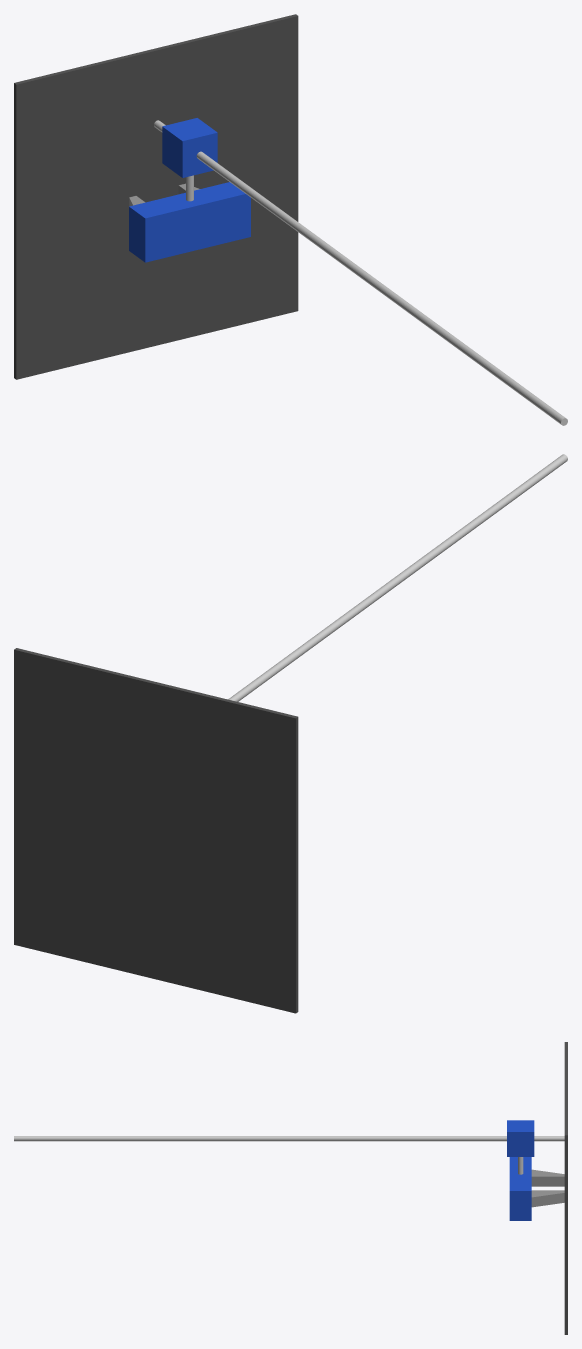
Rendered from gripper.obj.
3 renders of one model, top to bottom at view 1: azimuth 30°, elevation 25°; view 2: azimuth 150°, elevation 25°; view 3: azimuth 270°, elevation 25°, orthographic. The views are drawn at different scales.
Parts seen in each view (by area): view 1: b_gripper_base_001_, b_gripper_body_001_, b_gripper_vertical_rod_001_, b_gripper_connector_block_001_; view 2: b_gripper_base_001_, b_gripper_vertical_rod_001_; view 3: b_gripper_vertical_rod_001_, b_gripper_body_001_, b_gripper_base_001_, b_gripper_connector_block_001_, b_gripper_arm_001_, b_gripper_arm_001_001.
Boxes of the visible parts, box(x1,y1,x2,y2) form: b_gripper_base_001_: box(14, 14, 298, 379); b_gripper_body_001_: box(129, 182, 250, 262); b_gripper_vertical_rod_001_: box(154, 120, 567, 425); b_gripper_connector_block_001_: box(162, 118, 217, 177); b_gripper_base_001_: box(14, 648, 298, 1013); b_gripper_vertical_rod_001_: box(228, 454, 567, 701); b_gripper_vertical_rod_001_: box(14, 1136, 564, 1141); b_gripper_body_001_: box(509, 1157, 531, 1220); b_gripper_base_001_: box(564, 1042, 567, 1334); b_gripper_connector_block_001_: box(507, 1120, 534, 1156); b_gripper_arm_001_: box(531, 1169, 564, 1186); b_gripper_arm_001_001: box(531, 1190, 564, 1207).
Bounding box in the file's own units: 200 × 200 × 503.
